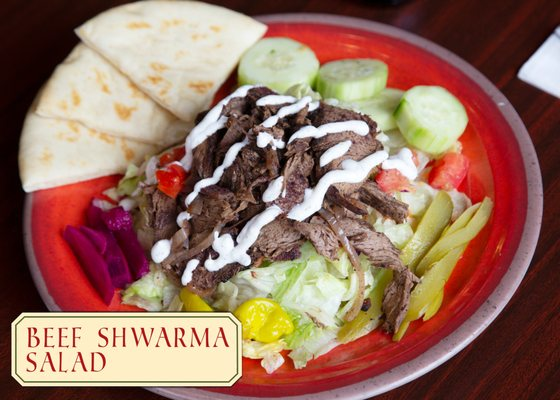soup: (19, 0, 269, 191)
